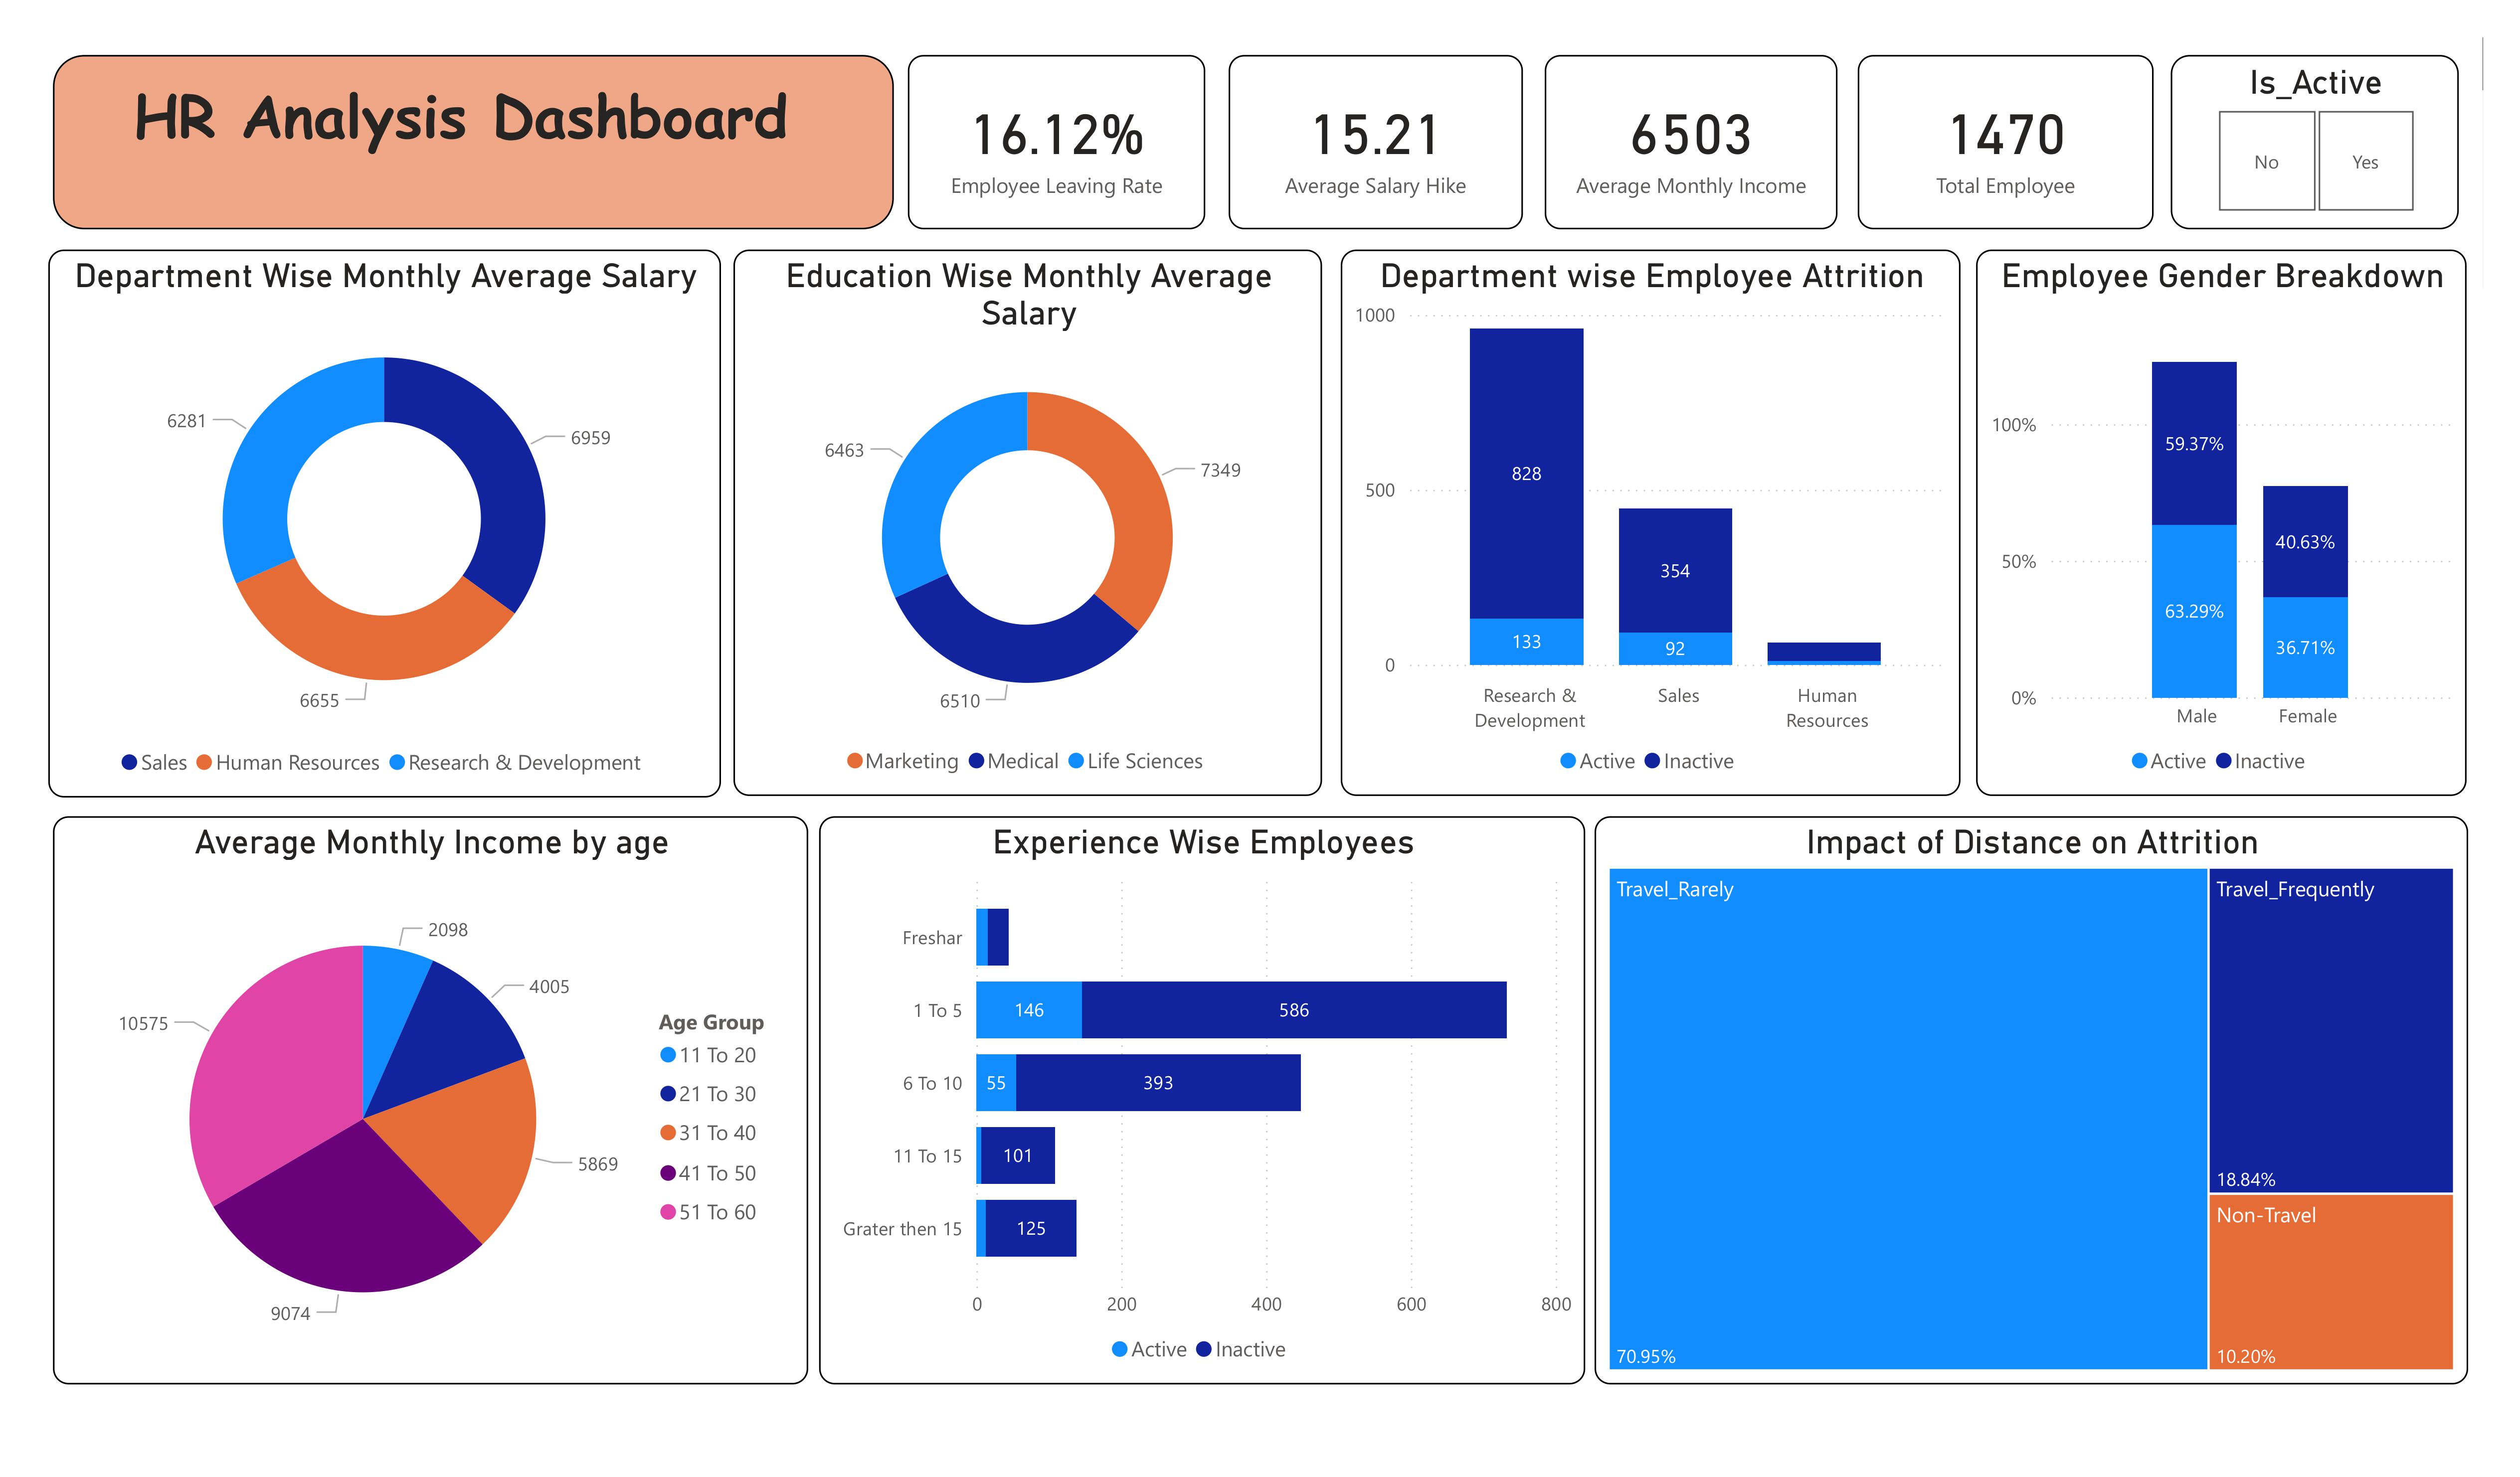

The dashboard page shown, as its layout file describes it:
{"tool":"powerbi","page":{"name":"Dashboard","canvas":[1570,900],"ordinal":0},"visuals":[{"type":"pieChart","title":" Average Monthly Income by age","fields":{"Category":["Age_Group.Values"],"Y":["Avg(Hr Analytics.MonthlyIncome)"]},"box":[9.8,500,485,365],"z":0},{"type":"barChart","title":"Experience Wise Employees","fields":{"Y":["Sum(Hr Analytics.active_employee)","Sum(Hr Analytics.inactive_employee)"],"Category":["Exp.Values"]},"box":[502.3,500,491.2,365],"z":1000},{"type":"donutChart","title":"Department Wise Monthly Average Salary","fields":{"Category":["Hr Analytics.Department"],"Y":["Avg(Hr Analytics.MonthlyIncome)"]},"box":[7.3,136.3,431.2,351.2],"z":2000},{"type":"card","title":"Department wise Average Monthly Salary","fields":{"Values":["Sum(Hr Analytics.EmployeeCount)"]},"box":[1168.8,11.2,190,111.2],"z":3000},{"type":"card","title":"Department wise Average Monthly Salary","fields":{"Values":["Hr Analytics.Employee Leaving Rate"]},"box":[558.8,11.2,191.2,111.2],"z":4000},{"type":"card","title":"Department wise Average Monthly Salary","fields":{"Values":["Hr Analytics.Average Monthly Income"]},"box":[967.5,11.2,188.8,111.2],"z":5000},{"type":"textbox","box":[10,11.2,540,111.2],"z":6000},{"type":"columnChart","title":"Employee Gender Breakdown","fields":{"Category":["Hr Analytics.Gender"],"Y":["Sum(Hr Analytics.active_employee)","Sum(Hr Analytics.inactive_employee)"]},"box":[1244.8,136,315,351.2],"z":7000},{"type":"card","title":"Department wise Average Monthly Salary","fields":{"Values":["Avg(Hr Analytics.PercentSalaryHike)"]},"box":[765,11.2,188.8,111.2],"z":8000},{"type":"columnChart","title":"Department wise Employee Attrition","fields":{"Category":["Hr Analytics.Department"],"Y":["Sum(Hr Analytics.active_employee)","Sum(Hr Analytics.inactive_employee)"]},"box":[837.3,136,397.5,351.2],"z":9000},{"type":"treemap","title":"Impact of Distance on Attrition","fields":{"Group":["Hr Analytics.BusinessTravel"],"Values":["Sum(Hr Analytics.EmployeeCount)"]},"box":[1000,500,561.2,365],"z":10000},{"type":"slicer","title":"Is_Active","fields":{"Values":["Hr Analytics.Attrition"]},"box":[1370,11.2,185,111.2],"z":11000},{"type":"donutChart","title":"Education Wise Monthly Average Salary","fields":{"Y":["Avg(Hr Analytics.MonthlyIncome)"],"Category":["Hr Analytics.EducationField"]},"box":[447.3,136,377.5,351.2],"z":12000}]}

Visuals, with their boxes in screenshot pixels (x1, y1, x2, y2):
" Average Monthly Income by age" pieChart: [x1=53, y1=817, x2=808, y2=1385]
"Experience Wise Employees" barChart: [x1=820, y1=817, x2=1585, y2=1385]
"Department Wise Monthly Average Salary" donutChart: [x1=49, y1=250, x2=720, y2=797]
"Department wise Average Monthly Salary" card: [x1=1858, y1=55, x2=2154, y2=228]
"Department wise Average Monthly Salary" card: [x1=907, y1=55, x2=1206, y2=228]
"Department wise Average Monthly Salary" card: [x1=1544, y1=55, x2=1838, y2=228]
textbox: [x1=53, y1=55, x2=894, y2=228]
"Employee Gender Breakdown" columnChart: [x1=1976, y1=249, x2=2467, y2=797]
"Department wise Average Monthly Salary" card: [x1=1229, y1=55, x2=1523, y2=228]
"Department wise Employee Attrition" columnChart: [x1=1341, y1=249, x2=1961, y2=797]
"Impact of Distance on Attrition" treemap: [x1=1595, y1=817, x2=2469, y2=1385]
"Is_Active" slicer: [x1=2171, y1=55, x2=2459, y2=228]
"Education Wise Monthly Average Salary" donutChart: [x1=734, y1=249, x2=1322, y2=797]
